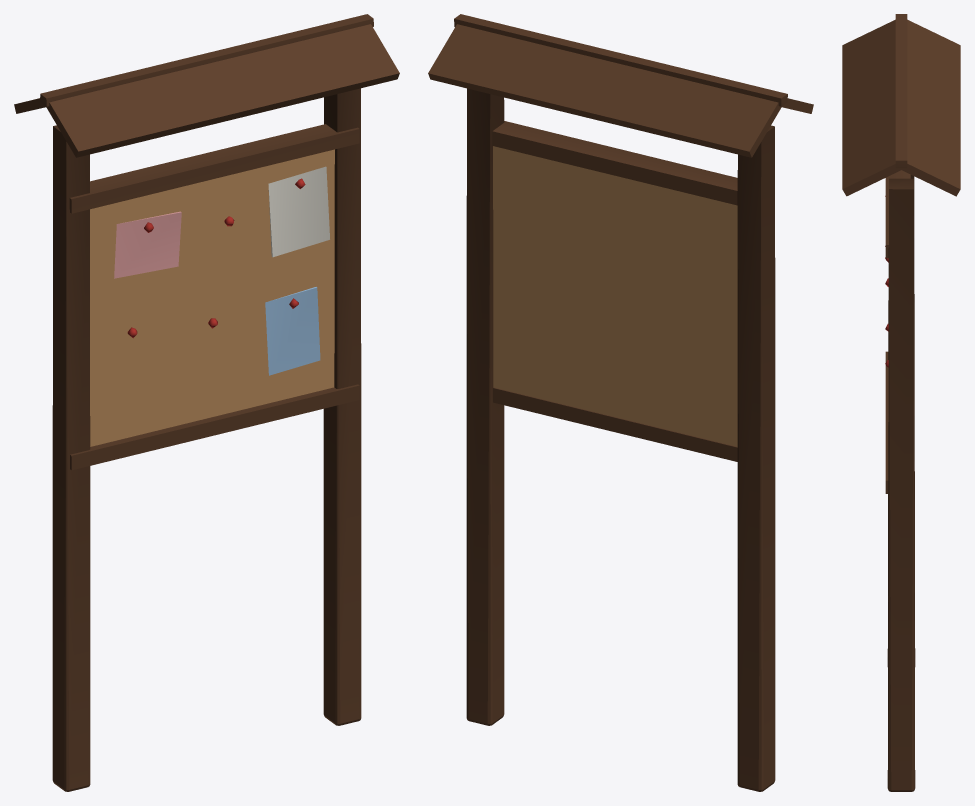
The model's file is noticeBoard.far.glb.
The picture shows the model from 3 angles, left to right: view 1: azimuth 30°, elevation 25°; view 2: azimuth 150°, elevation 25°; view 3: azimuth 270°, elevation 25°; orthographic projection. The views are drawn at different scales.
Parts seen in each view (by area): view 1: noticeBoard_far; view 2: noticeBoard_far; view 3: noticeBoard_far.
Part boxes in pixels (box(x1,y1,x2,y2)): noticeBoard_far: box(14, 14, 399, 791); noticeBoard_far: box(428, 14, 813, 791); noticeBoard_far: box(842, 14, 960, 791).
Bounding box in the file's own units: 1.01 × 2.06 × 0.3462.
